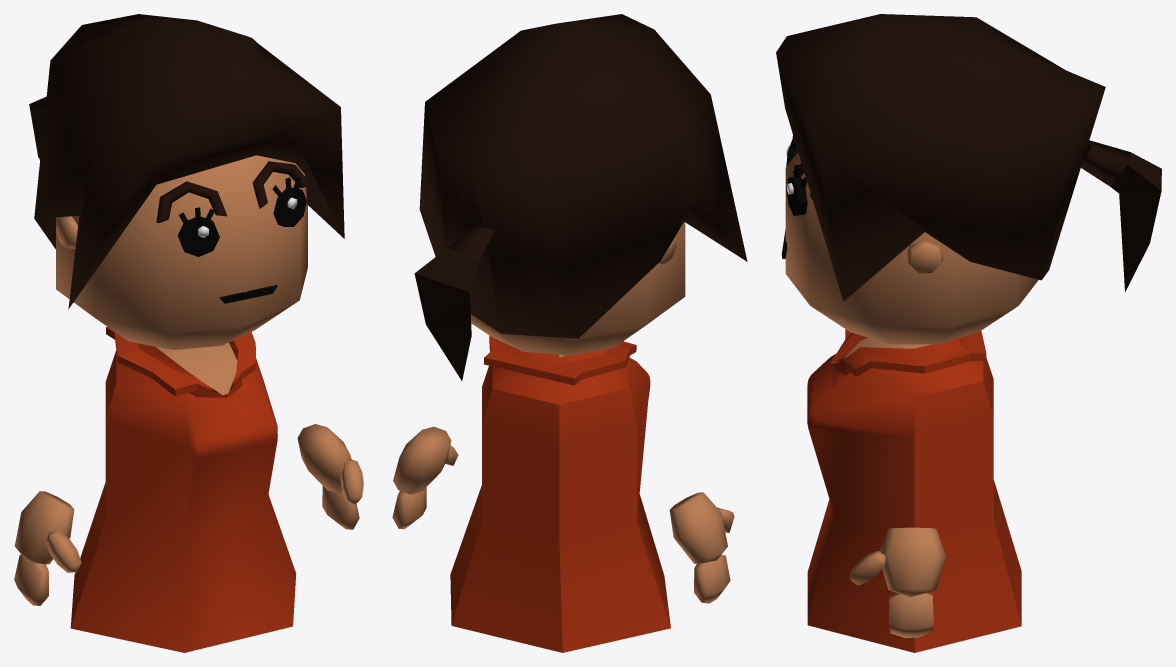
Rendered from mujer_7.fbx.
The picture shows the model from 3 angles, left to right: view 1: azimuth 30°, elevation 25°; view 2: azimuth 150°, elevation 25°; view 3: azimuth 270°, elevation 25°; orthographic projection. The views are drawn at different scales.
Visible parts, largest first — view 1: Torso002, Pelo002, Cabeza002, Palma Izquerda004, Palma Izquerda005, Cuerpo002, Ojo Derecho002, Dedos Izquierdos004, Ojo Izquierdo002, Ceja Derecha002, Dedos Izquierdos005, DedoPulga Izquierdo004 (+3 smaller); view 2: Pelo002, Torso002, Cabeza002, Palma Izquerda004, Palma Izquerda005, Dedos Izquierdos004, Dedos Izquierdos005; view 3: Pelo002, Torso002, Cabeza002, Palma Izquerda005, Dedos Izquierdos005, Oreja Derecha005, DedoPulga Izquierdo005, Ojo Izquierdo002.
Boxes of the visible parts, bbox=[...] form: Torso002: bbox=[70, 326, 296, 652]; Pelo002: bbox=[29, 14, 344, 309]; Cabeza002: bbox=[56, 155, 307, 349]; Palma Izquerda004: bbox=[14, 491, 74, 564]; Palma Izquerda005: bbox=[297, 424, 351, 493]; Cuerpo002: bbox=[155, 343, 237, 394]; Ojo Derecho002: bbox=[177, 207, 219, 256]; Dedos Izquierdos004: bbox=[14, 554, 48, 605]; Ojo Izquierdo002: bbox=[272, 177, 306, 226]; Ceja Derecha002: bbox=[156, 181, 227, 222]; Dedos Izquierdos005: bbox=[322, 486, 359, 529]; DedoPulga Izquierdo004: bbox=[46, 531, 81, 572]; Pelo002: bbox=[414, 14, 747, 380]; Torso002: bbox=[450, 335, 670, 652]; Cabeza002: bbox=[470, 221, 685, 355]; Palma Izquerda004: bbox=[669, 492, 727, 563]; Palma Izquerda005: bbox=[393, 426, 451, 494]; Dedos Izquierdos004: bbox=[694, 555, 730, 603]; Dedos Izquierdos005: bbox=[392, 487, 426, 529]; Pelo002: bbox=[776, 14, 1161, 301]; Torso002: bbox=[807, 329, 1021, 652]; Cabeza002: bbox=[785, 153, 1038, 344]; Palma Izquerda005: bbox=[880, 527, 945, 597]; Dedos Izquierdos005: bbox=[889, 592, 933, 638]; Oreja Derecha005: bbox=[905, 239, 943, 273]; DedoPulga Izquierdo005: bbox=[849, 551, 885, 585]; Ojo Izquierdo002: bbox=[786, 165, 807, 215].
Bounding box in the file's own units: 1.41 × 2.35 × 1.42.
